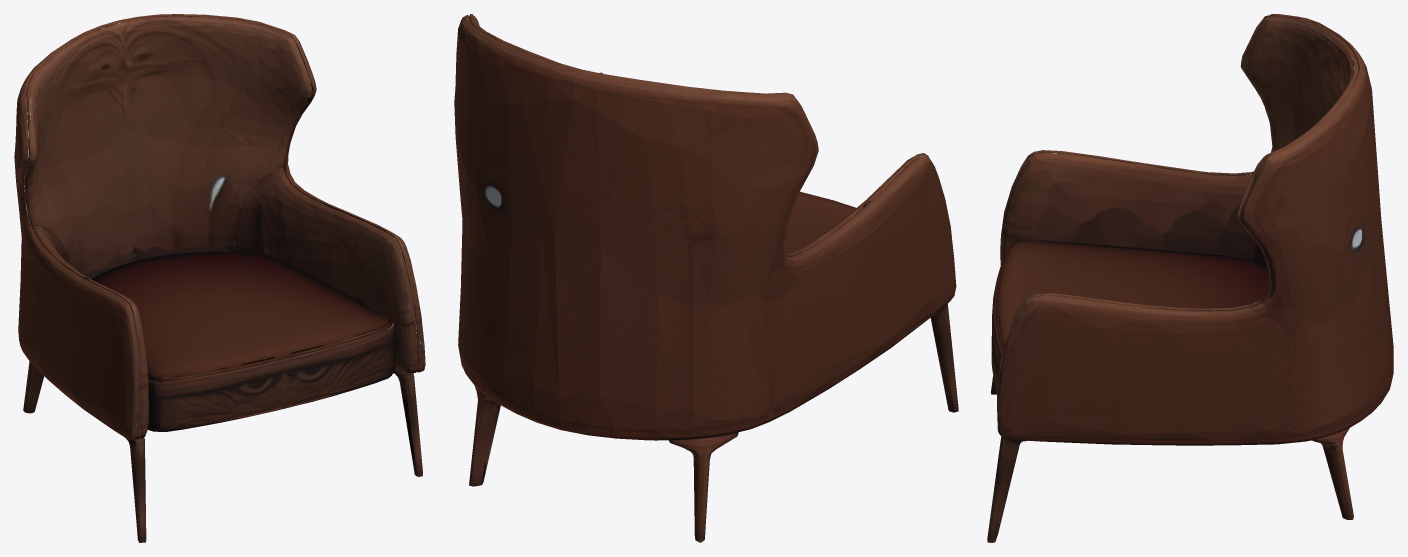
File: edited_mesh.glb
3 views of the same model, side by side, from view 1: azimuth 30°, elevation 25°; view 2: azimuth 150°, elevation 25°; view 3: azimuth 270°, elevation 25° (orthographic). The views are drawn at different scales.
Parts seen in each view (by area): view 1: solid_001_wire; view 2: solid_001_wire; view 3: solid_001_wire.
Part boxes in pixels (<box>): solid_001_wire: <box>14,14,425,542</box>; solid_001_wire: <box>454,14,958,542</box>; solid_001_wire: <box>987,14,1393,542</box>.
Bounding box in the file's own units: 1.17 × 1.37 × 1.26.
1 material, 1 textured.
